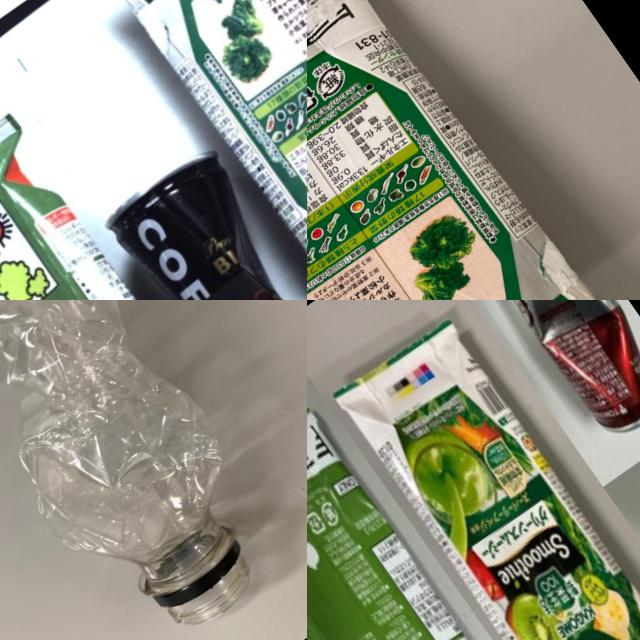Aluminium Foil: (318, 300, 640, 640), (307, 0, 640, 300), (307, 393, 594, 640), (91, 0, 307, 300), (0, 108, 257, 300)
Can: (97, 134, 307, 300), (457, 300, 640, 449)
Transparent Plastic Bottle: (0, 300, 307, 640), (307, 464, 456, 640)
